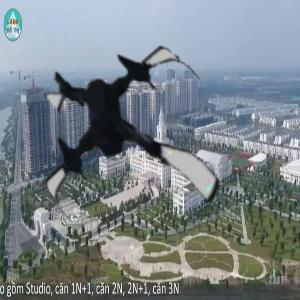drone: (25, 37, 234, 246)
